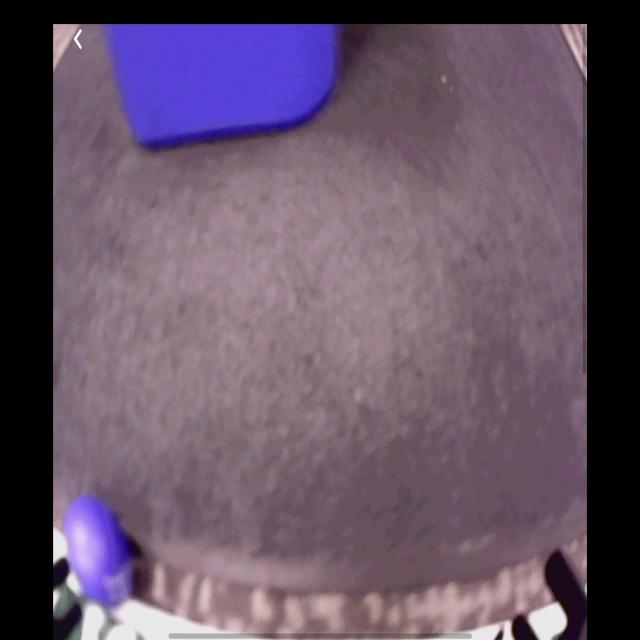ball: (64, 500, 132, 612)
